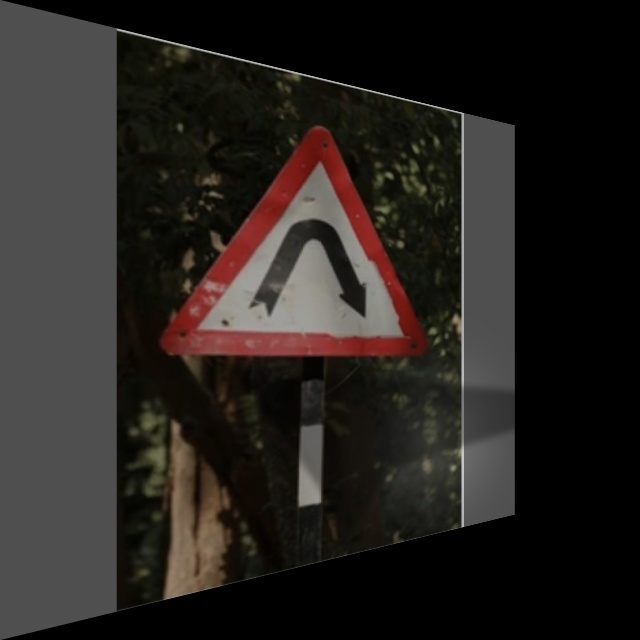Right_Hair_Pin_Bend: (171, 98, 422, 363)
